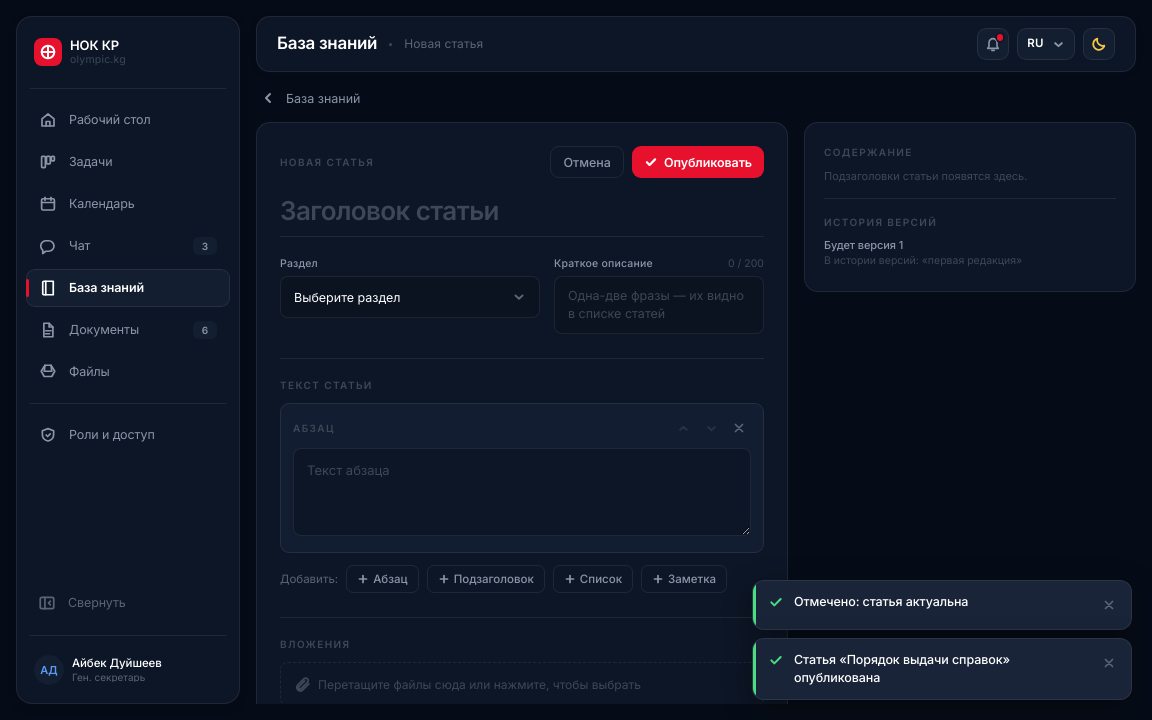
редактор статьи › пустая форма не сохраняется: ошибки у полей
Click the button "Опубликовать" at (698, 162), box [632,146,764,178]
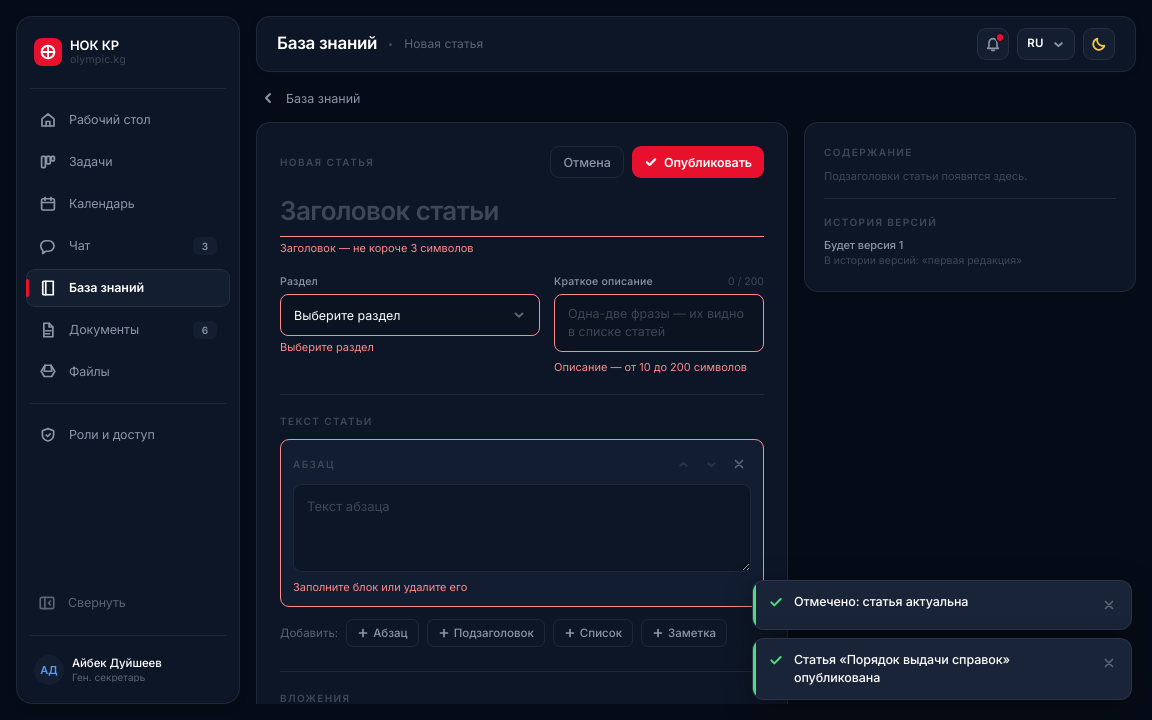
Check: the text "Заголовок — не короче 3 символов" is shown, box [280,241,474,255]
Check: the text "Описание — от 10 до 200 символов" is shown, box [554,360,764,374]
Check: the text "Заполните блок или удалите его" is shown, box [293,580,467,594]
